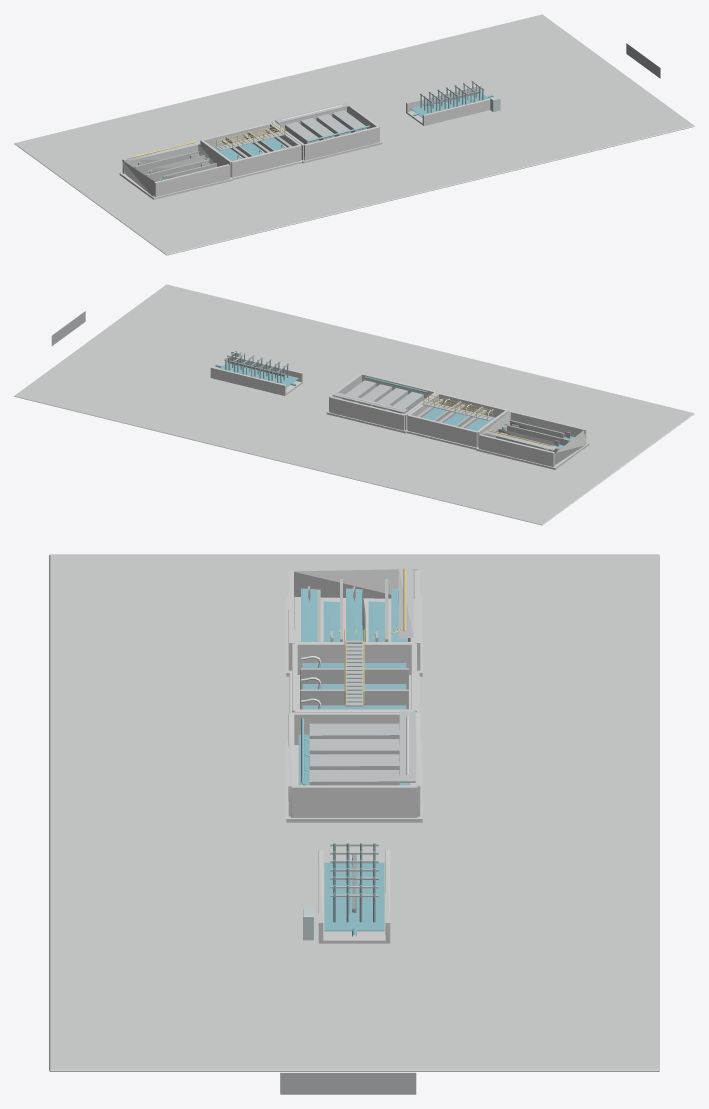
3 renders of one model, top to bottom at view 1: azimuth 30°, elevation 25°; view 2: azimuth 150°, elevation 25°; view 3: azimuth 270°, elevation 25°, orthographic. The views are drawn at different scales.
Parts seen in each view (by area): view 1: render-batch-8, render-batch-9, render-batch-6, render-batch-5, render-batch-0, render-batch-1, render-batch-11, render-batch-4; view 2: render-batch-8, render-batch-9, render-batch-6, render-batch-5, render-batch-0, render-batch-1, render-batch-11, render-batch-4; view 3: render-batch-8, render-batch-9, render-batch-6, render-batch-0, render-batch-5, render-batch-4, render-batch-1.
Part boxes in pixels (bbox=[...]): render-batch-8: bbox=[14, 14, 694, 255]; render-batch-9: bbox=[119, 84, 490, 199]; render-batch-6: bbox=[126, 81, 484, 180]; render-batch-5: bbox=[134, 129, 291, 181]; render-batch-0: bbox=[134, 92, 493, 179]; render-batch-1: bbox=[420, 81, 483, 112]; render-batch-11: bbox=[132, 125, 285, 157]; render-batch-4: bbox=[626, 43, 660, 78]; render-batch-8: bbox=[14, 284, 694, 525]; render-batch-9: bbox=[210, 354, 589, 469]; render-batch-6: bbox=[224, 351, 570, 450]; render-batch-5: bbox=[417, 399, 569, 453]; render-batch-0: bbox=[215, 362, 574, 455]; render-batch-1: bbox=[225, 351, 288, 382]; render-batch-11: bbox=[423, 395, 551, 446]; render-batch-4: bbox=[51, 311, 85, 345]; render-batch-8: bbox=[49, 554, 659, 1071]; render-batch-9: bbox=[286, 569, 422, 943]; render-batch-6: bbox=[308, 567, 415, 896]; render-batch-0: bbox=[298, 588, 410, 936]; render-batch-5: bbox=[300, 579, 410, 709]; render-batch-4: bbox=[280, 1072, 416, 1094]; render-batch-1: bbox=[333, 843, 375, 922].
Bounding box in the file's own units: 96.02 × 4.41 × 46.
